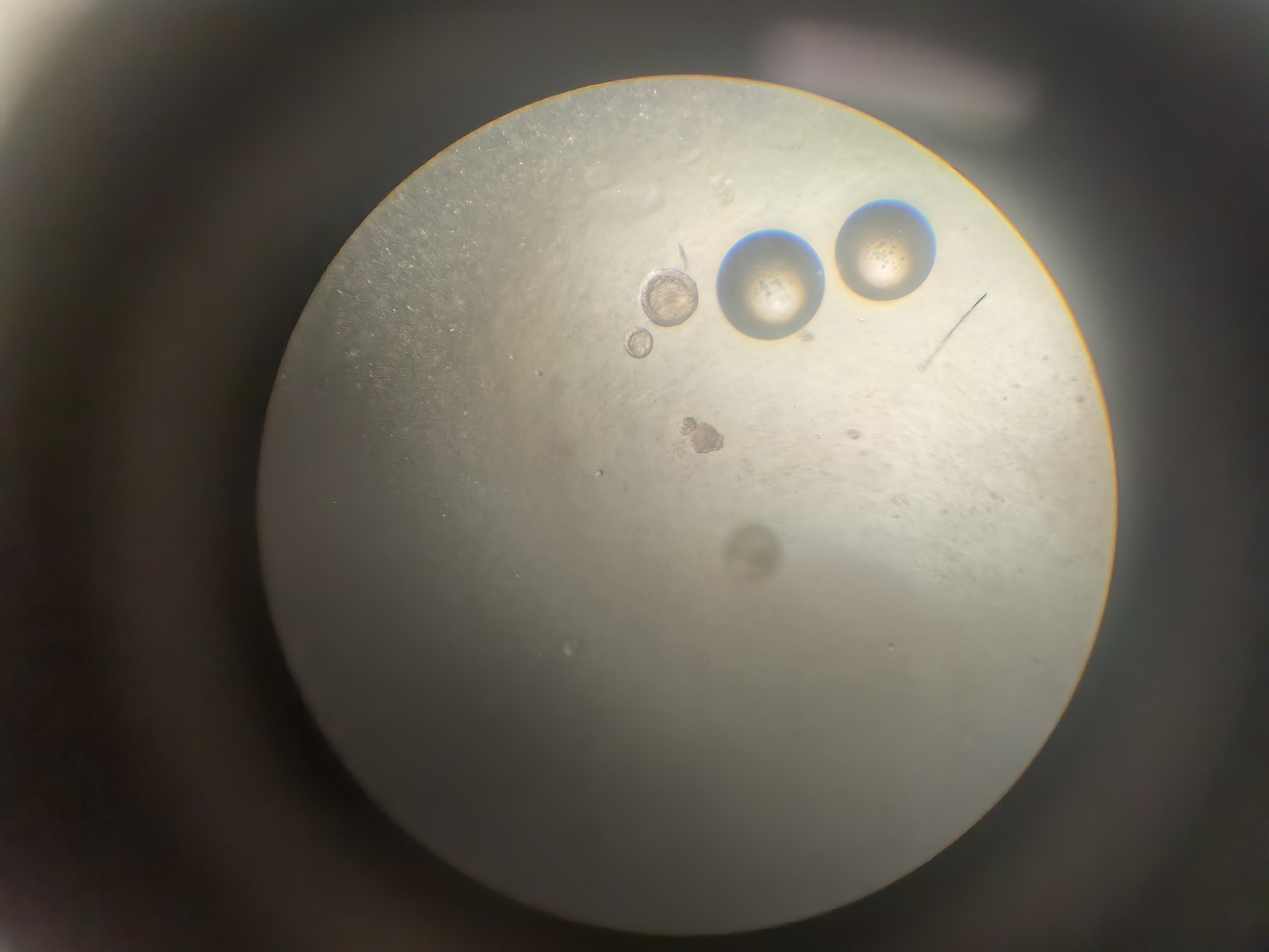organoid: (650, 545, 815, 655)
